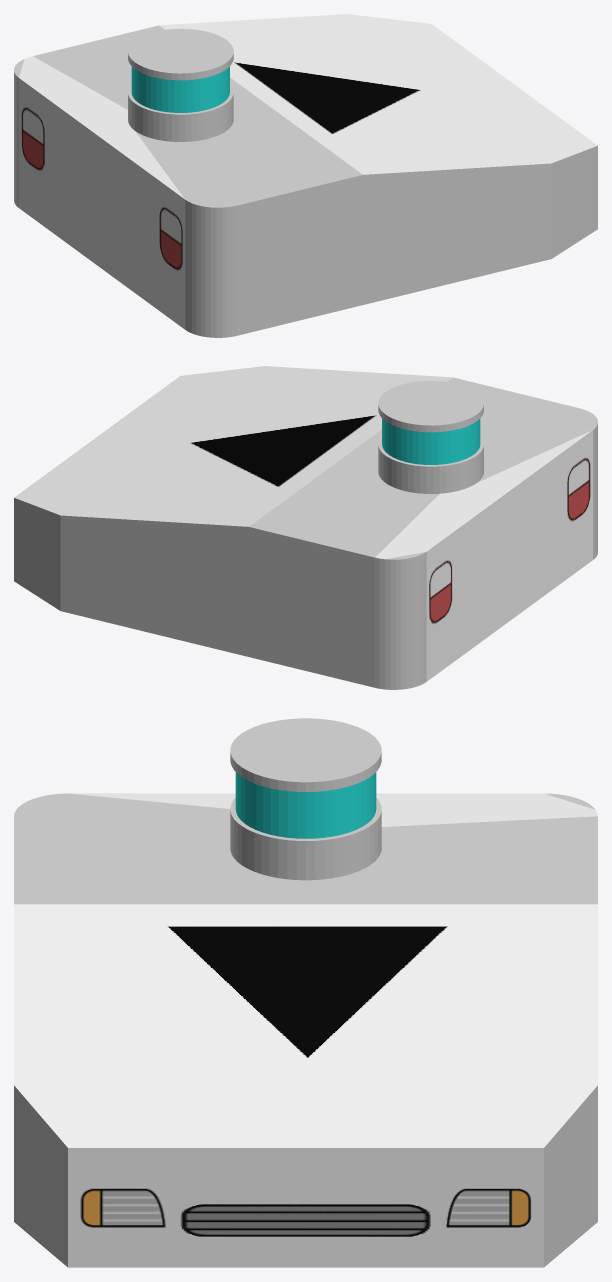
3 views of the same model, one above another, from view 1: azimuth 30°, elevation 25°; view 2: azimuth 150°, elevation 25°; view 3: azimuth 270°, elevation 25° (orthographic). The views are drawn at different scales.
Parts seen in each view (by area): view 1: Yolo Nav Robot; view 2: Yolo Nav Robot; view 3: Yolo Nav Robot.
Part boxes in pixels (x1,y1,x2,y2): Yolo Nav Robot: (14, 14, 597, 337); Yolo Nav Robot: (14, 366, 597, 689); Yolo Nav Robot: (14, 718, 597, 1267).
Bounding box in the file's own units: 0.63 × 0.54 × 0.29.
Materials: 3 (1 with a texture image).
